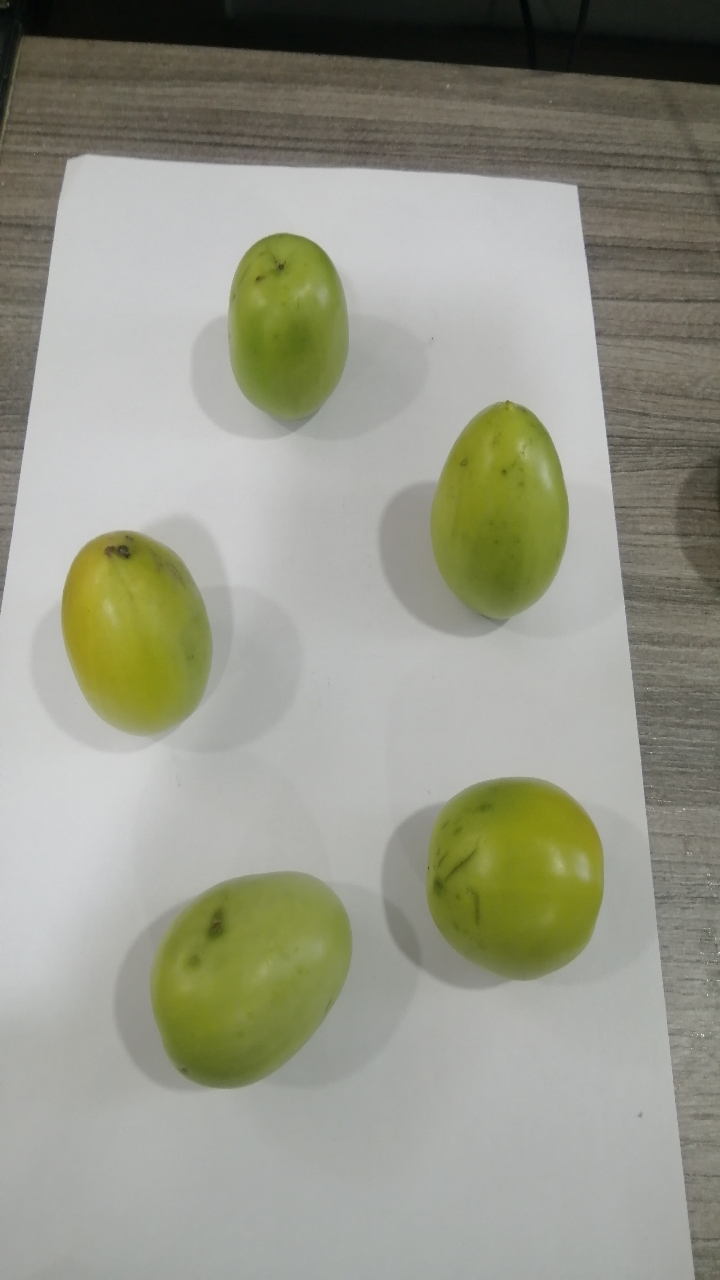tomateVerde: (129, 851, 372, 1119), (404, 762, 621, 1000), (54, 512, 249, 751), (208, 209, 392, 431), (418, 385, 580, 625)
